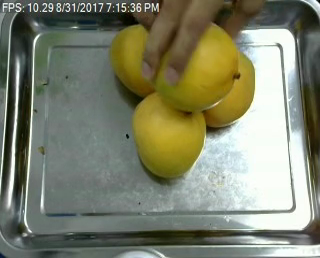Mango: (144, 19, 238, 110), (130, 93, 206, 180), (185, 46, 256, 127), (107, 20, 172, 97)
